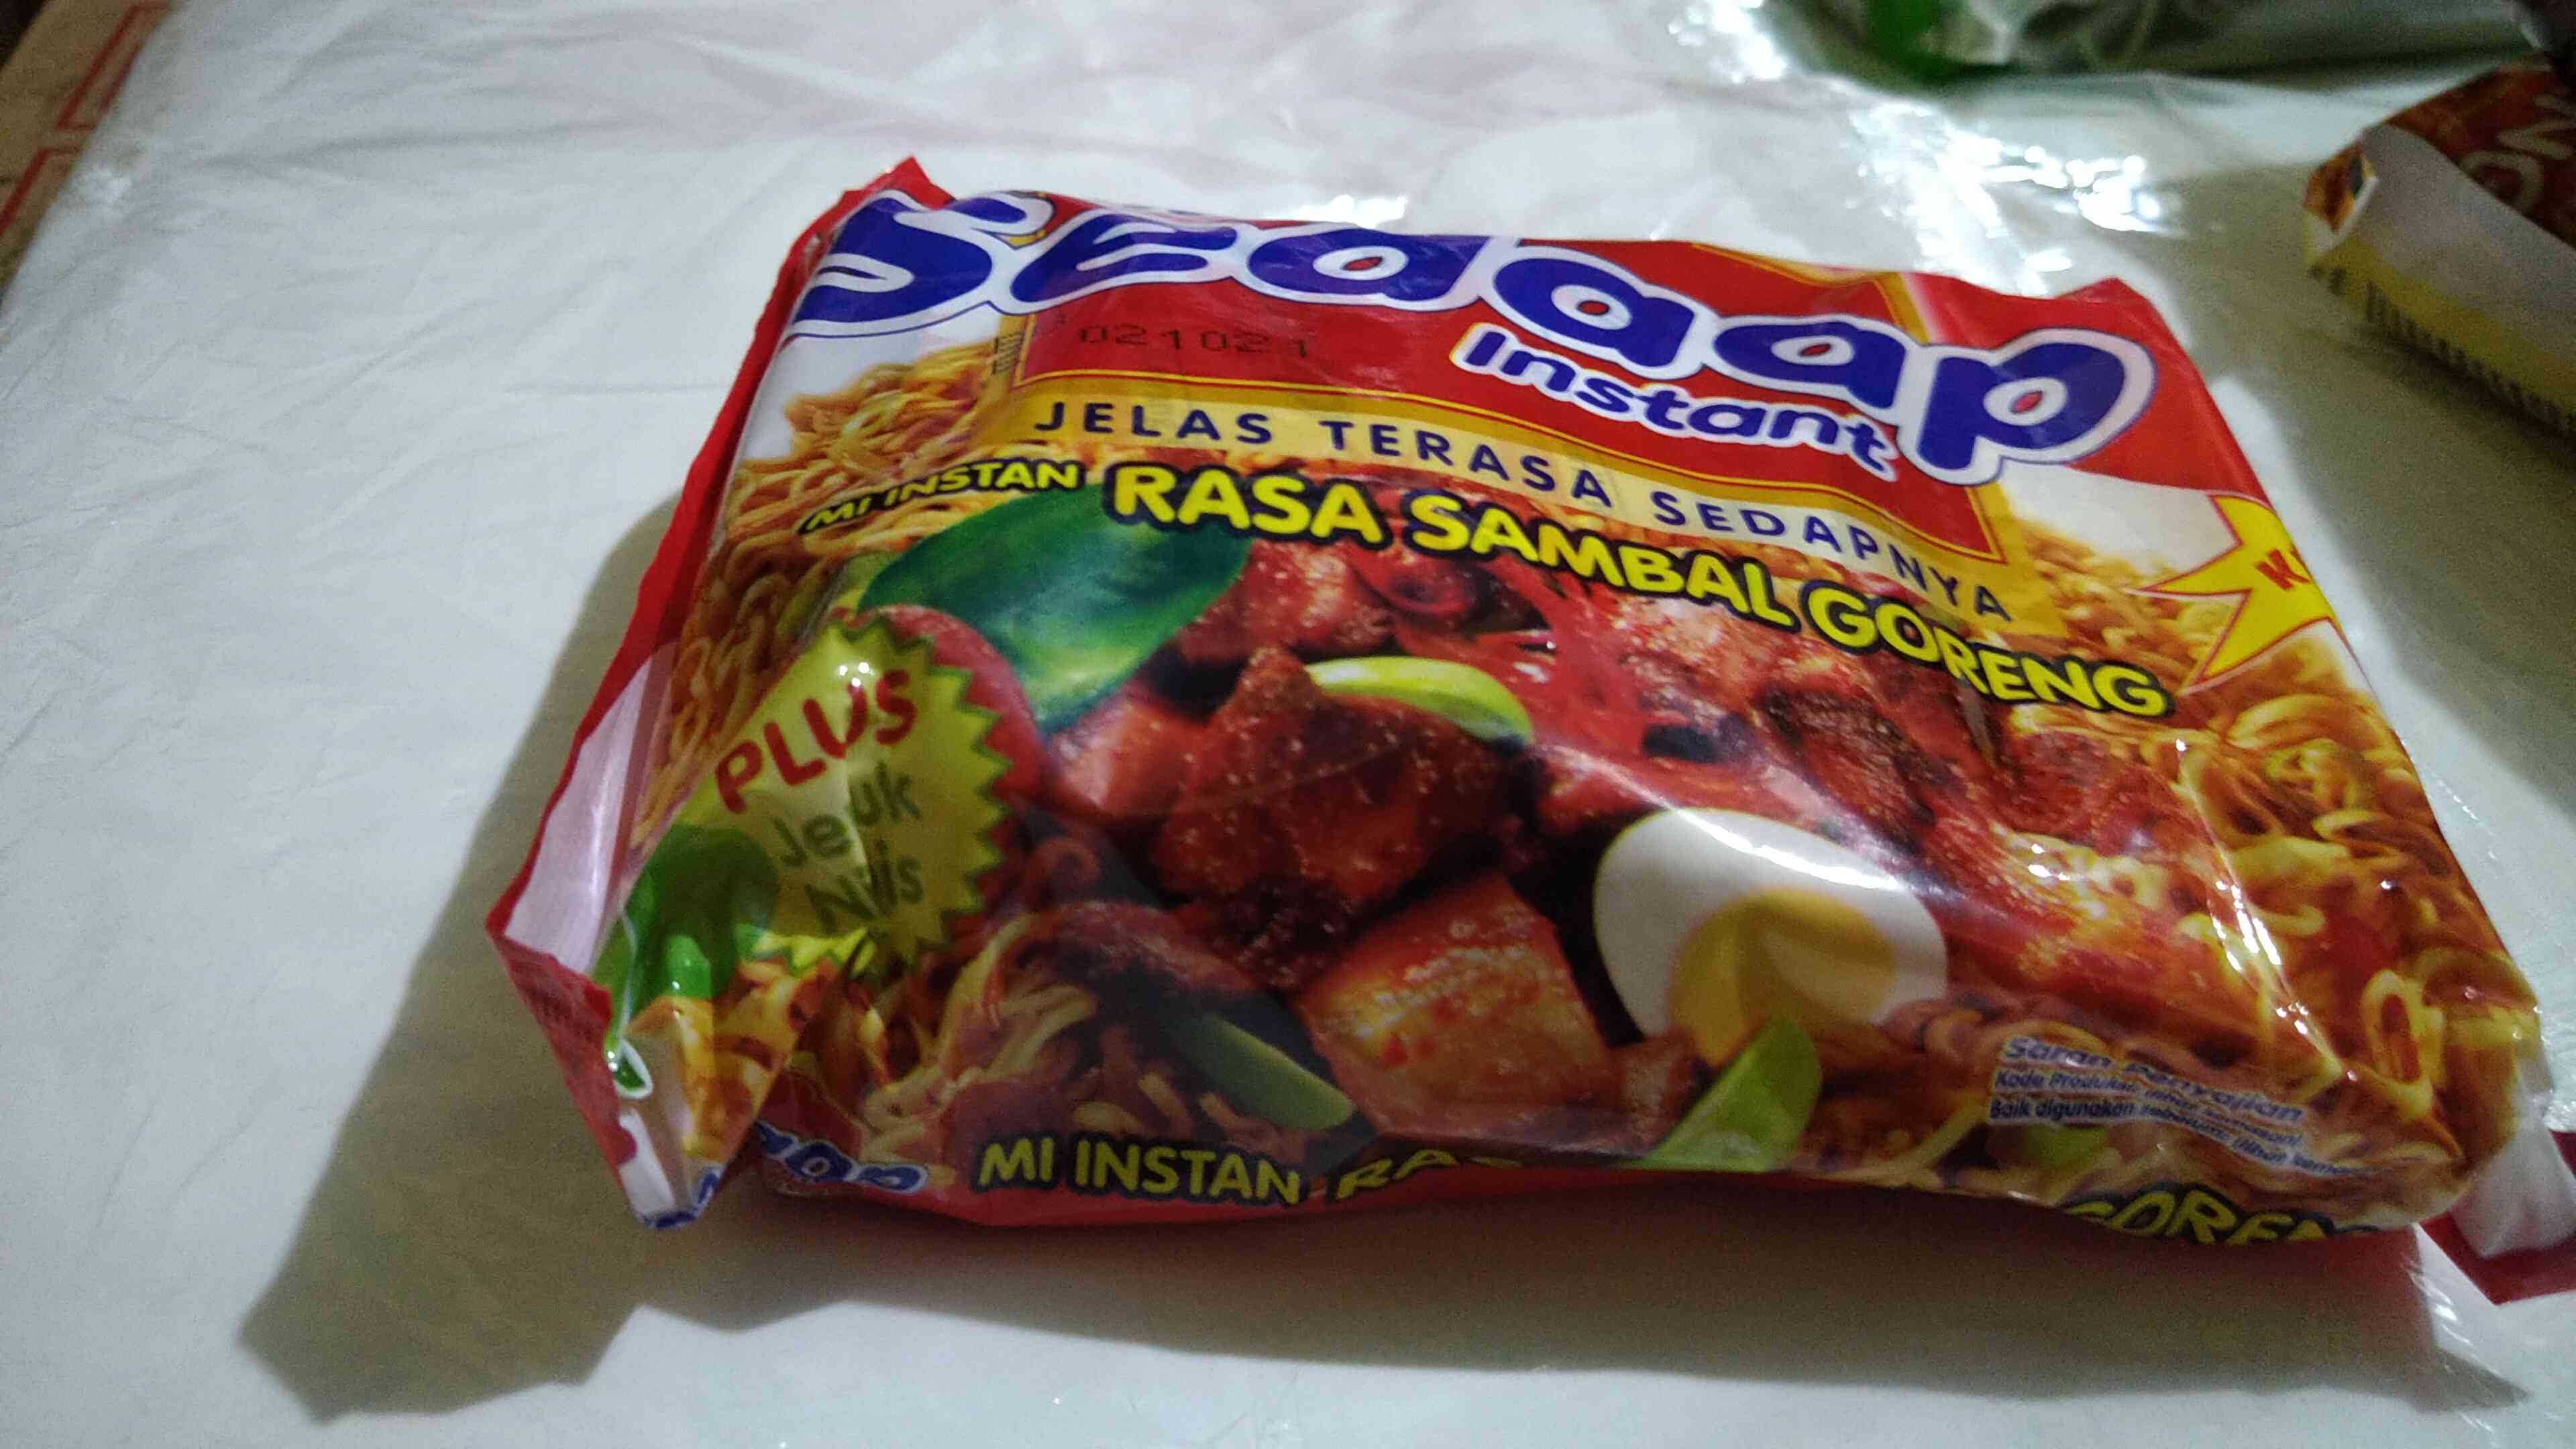sedaap sambal goreng: (538, 138, 2493, 1355)
